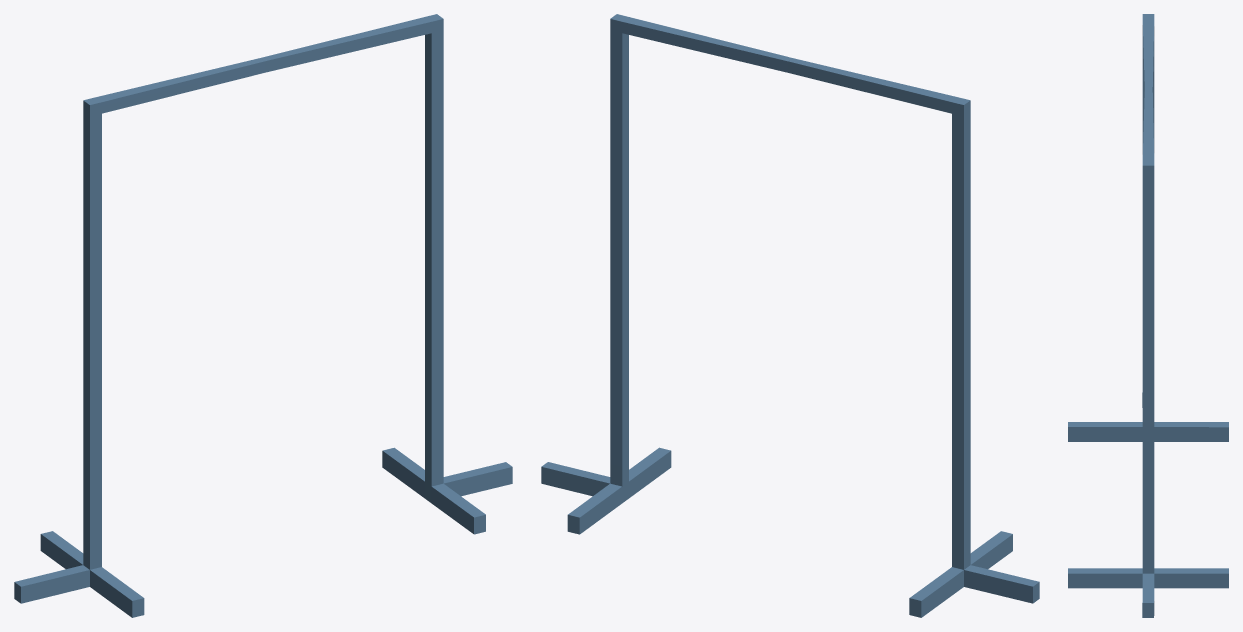
File: pullup.fbx
The picture shows the model from 3 angles, left to right: view 1: azimuth 30°, elevation 25°; view 2: azimuth 150°, elevation 25°; view 3: azimuth 270°, elevation 25°; orthographic projection. The views are drawn at different scales.
Parts seen in each view (by area): view 1: pullup; view 2: pullup; view 3: pullup.
Boxes of the visible parts, x1,y1,x2,y2 form: pullup: (14,14,512,617); pullup: (541,14,1039,617); pullup: (1068,14,1228,617).
Bounding box in the file's own units: 3.26 × 3.05 × 1.05.
